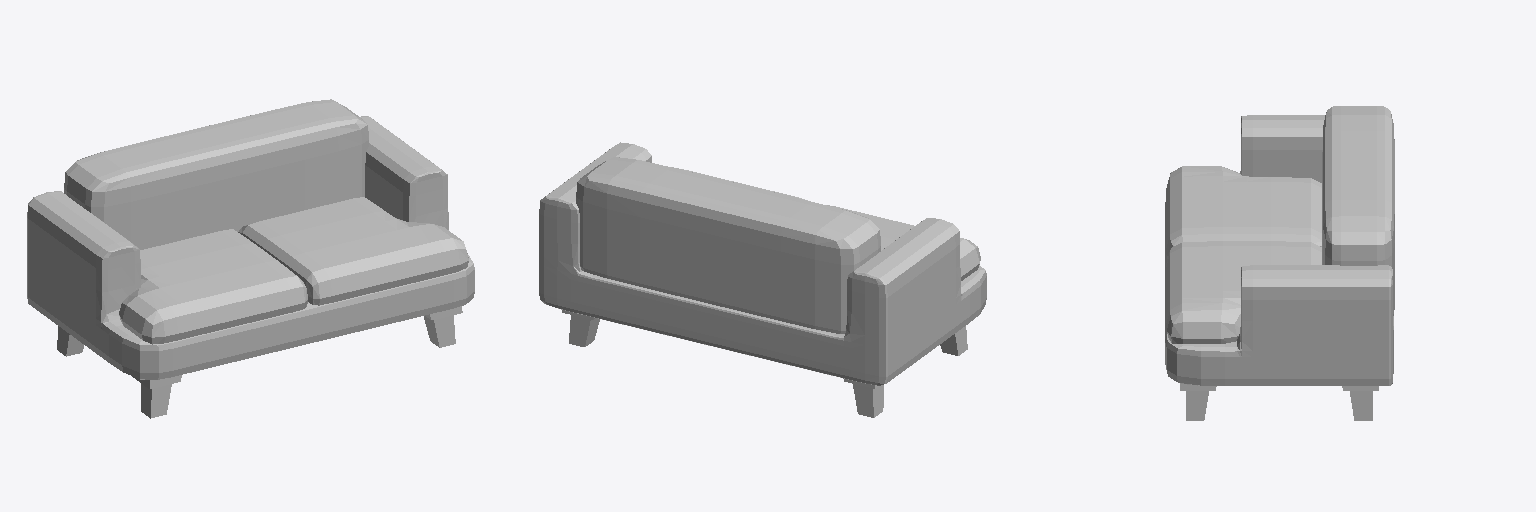
The model's file is FixedCouch.obj.
3 views of the same model, side by side, from view 1: azimuth 30°, elevation 25°; view 2: azimuth 150°, elevation 25°; view 3: azimuth 270°, elevation 25° (orthographic).
Parts seen in each view (by area): view 1: Couch_Cube.001; view 2: Couch_Cube.001; view 3: Couch_Cube.001.
Boxes of the visible parts, <box> form: Couch_Cube.001: <box>27,99,474,418</box>; Couch_Cube.001: <box>539,142,986,417</box>; Couch_Cube.001: <box>1165,106,1394,420</box>.
Size of the model in its own units: 2.36 by 1.17 by 1.35.